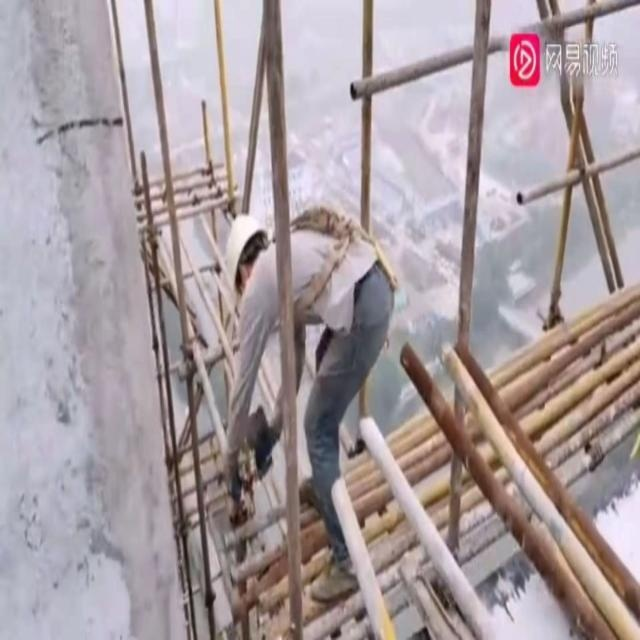Arnes_seguridad: (251, 201, 390, 329)
